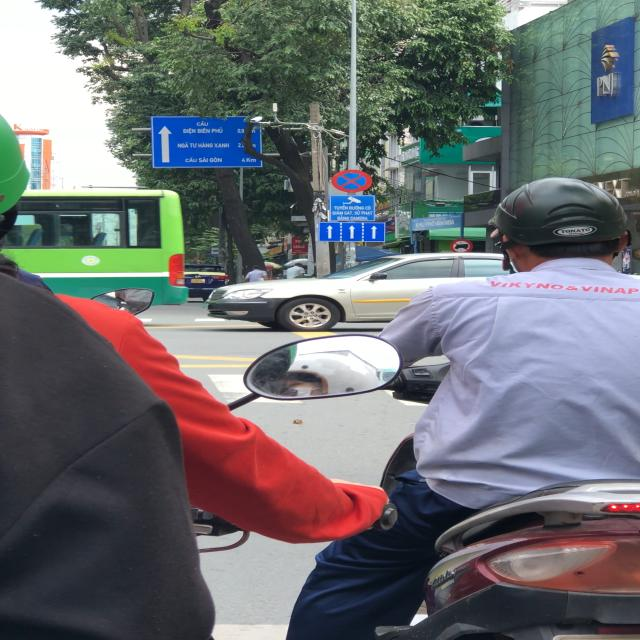Bien bao cam dung xe va do xe: (326, 169, 375, 192)
